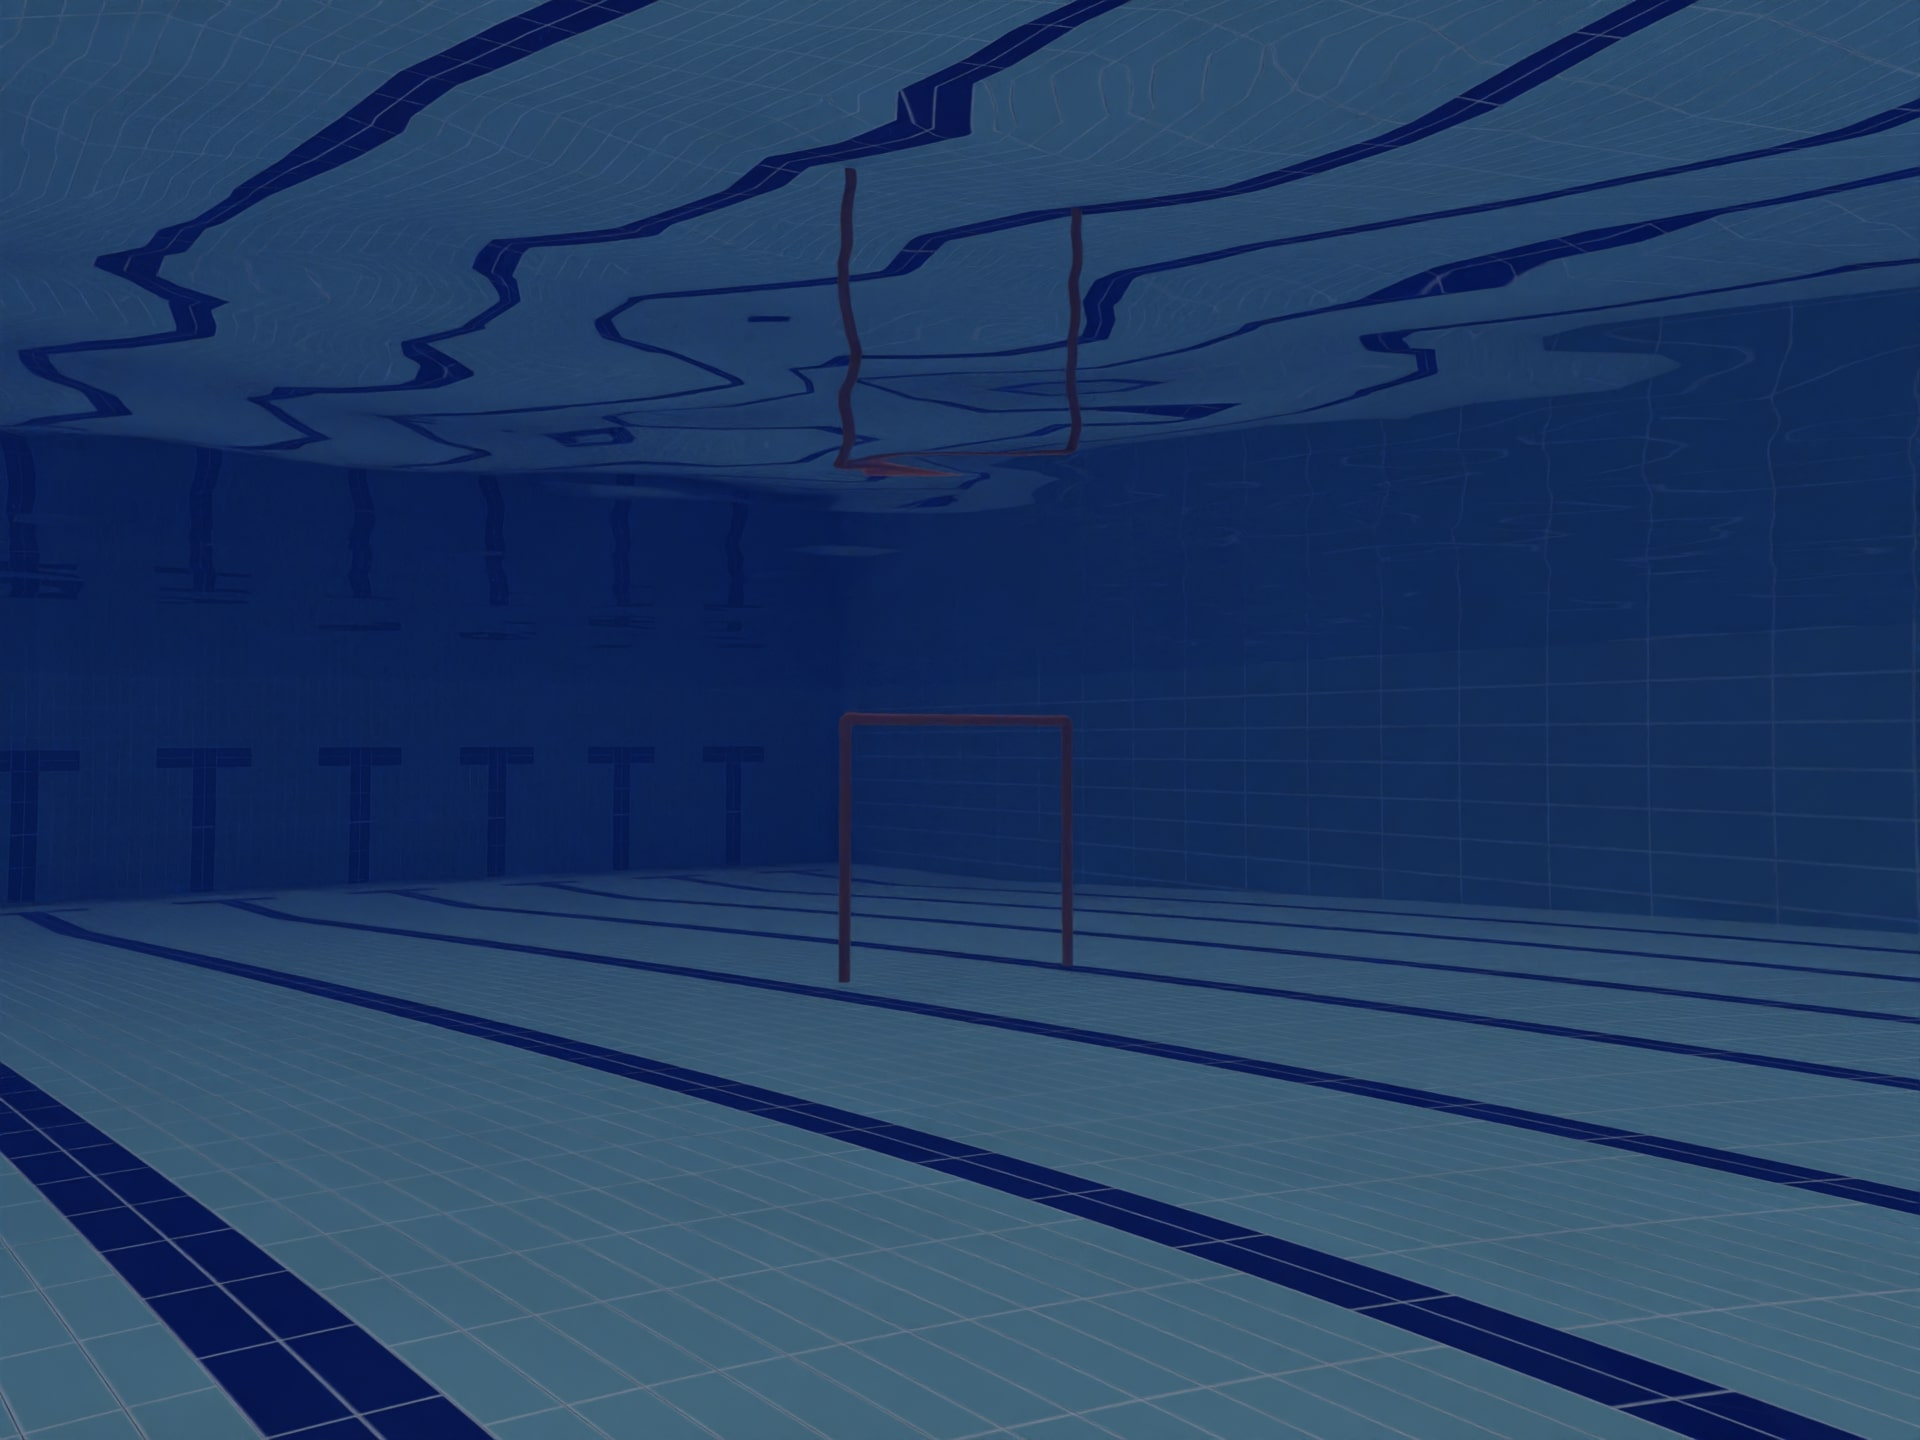gate: (822, 691, 1146, 1029)
